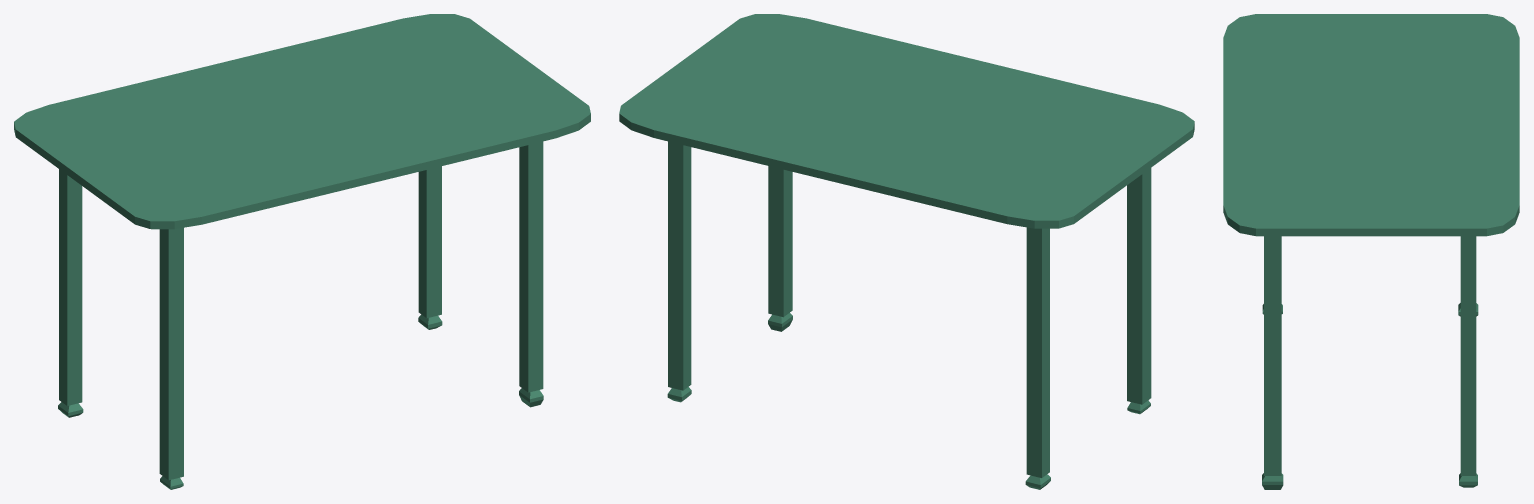
File: mesaLaboLargaPetiza.fbx
3 renders of one model, left to right at view 1: azimuth 30°, elevation 25°; view 2: azimuth 150°, elevation 25°; view 3: azimuth 270°, elevation 25°, orthographic. The views are drawn at different scales.
Visible parts, largest first — view 1: mesa; view 2: mesa; view 3: mesa.
Part boxes in pixels (x1=…): mesa: x1=14, y1=14, x2=590, y2=489; mesa: x1=619, y1=14, x2=1194, y2=489; mesa: x1=1223, y1=14, x2=1519, y2=489.
Size of the model in its own units: 120 by 73.6 by 70.
